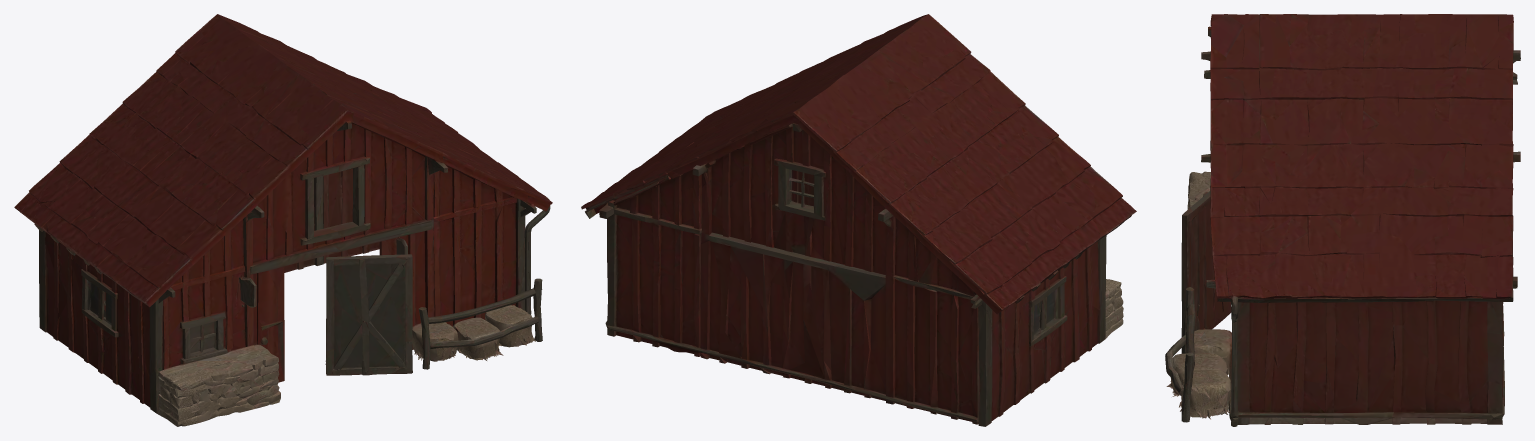
File: farm.glb
The picture shows the model from 3 angles, left to right: view 1: azimuth 30°, elevation 25°; view 2: azimuth 150°, elevation 25°; view 3: azimuth 270°, elevation 25°; orthographic projection. The views are drawn at different scales.
Size of the model in its own units: 1.9 by 1.17 by 1.23.
1 material, 1 textured.
